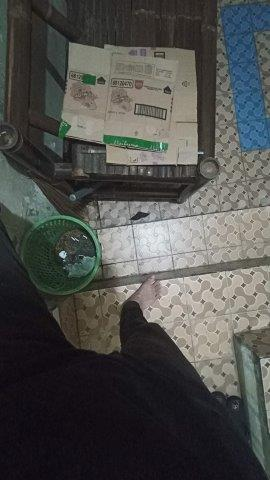kardus: (62, 43, 196, 164)
